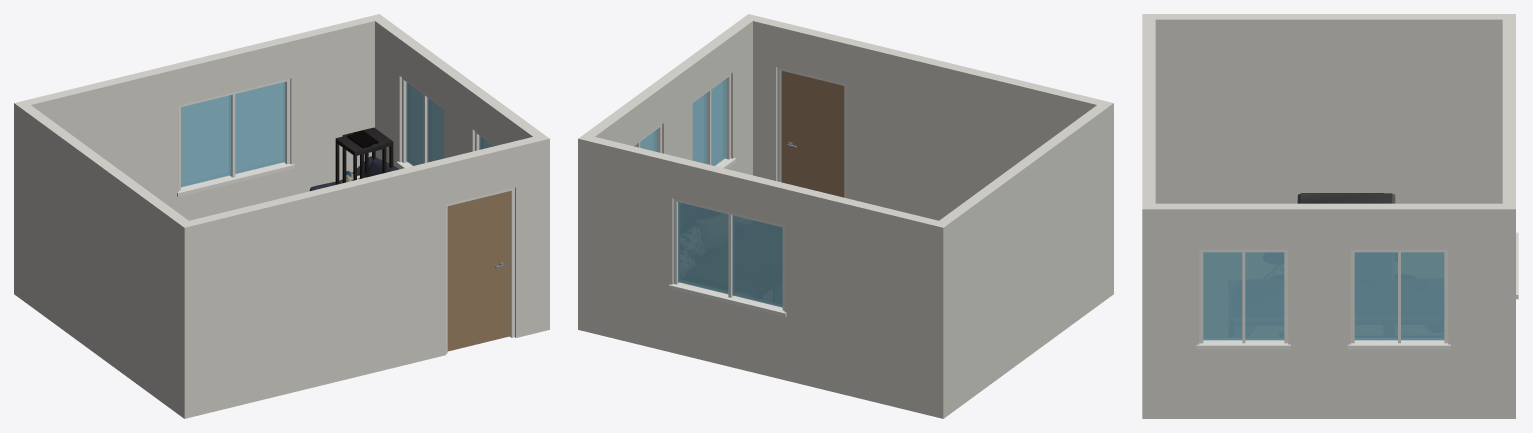
File: atiss.glb
3 views of the same model, side by side, from view 1: azimuth 30°, elevation 25°; view 2: azimuth 150°, elevation 25°; view 3: azimuth 270°, elevation 25° (orthographic). The views are drawn at different scales.
Parts seen in each view (by area): view 1: wall|scenesmith_107__R00|0, wall|scenesmith_107__R00|2, wall|scenesmith_107__R00|1, wall|scenesmith_107__R00|3, wall|scenesmith_107__R00|0 Door 0 | wood leaf, wall|scenesmith_107__R00|1 Window 0 | glazing, wall|scenesmith_107__R00|3 Window 0 | glazing, wall|scenesmith_107__R00|1 Window 0 | jamb, raw_model.001, wall|scenesmith_107__R00|0 Door 0 | jamb, wall|scenesmith_107__R00|3 Window 0 | jamb, solid_001; view 2: wall|scenesmith_107__R00|1, wall|scenesmith_107__R00|0, wall|scenesmith_107__R00|2, wall|scenesmith_107__R00|3, wall|scenesmith_107__R00|1 Window 0 | glazing, wall|scenesmith_107__R00|0 Door 0 | wood leaf, wall|scenesmith_107__R00|3 Window 0 | glazing, wall|scenesmith_107__R00|1 Window 0 | jamb, wall|scenesmith_107__R00|3 Window 0 | jamb, wall|scenesmith_107__R00|0 Door 0 | jamb; view 3: wall|scenesmith_107__R00|2, wall|scenesmith_107__R00|3, wall|scenesmith_107__R00|3 Window 0 | glazing, wall|scenesmith_107__R00|0, wall|scenesmith_107__R00|1, wall|scenesmith_107__R00|3 Window 0 | jamb, raw_model.
Boxes of the visible parts, <box> form: wall|scenesmith_107__R00|0: <box>179,137,549,418</box>; wall|scenesmith_107__R00|2: <box>14,100,188,418</box>; wall|scenesmith_107__R00|1: <box>14,16,374,298</box>; wall|scenesmith_107__R00|3: <box>369,14,549,169</box>; wall|scenesmith_107__R00|0 Door 0 | wood leaf: <box>447,191,510,351</box>; wall|scenesmith_107__R00|1 Window 0 | glazing: <box>181,82,285,187</box>; wall|scenesmith_107__R00|3 Window 0 | glazing: <box>406,82,493,165</box>; wall|scenesmith_107__R00|1 Window 0 | jamb: <box>177,78,294,196</box>; raw_model.001: <box>335,127,393,184</box>; wall|scenesmith_107__R00|0 Door 0 | jamb: <box>446,187,514,353</box>; wall|scenesmith_107__R00|3 Window 0 | jamb: <box>396,78,494,168</box>; solid_001: <box>309,156,398,190</box>; wall|scenesmith_107__R00|1: <box>578,137,949,418</box>; wall|scenesmith_107__R00|0: <box>753,16,1113,220</box>; wall|scenesmith_107__R00|2: <box>933,103,1113,418</box>; wall|scenesmith_107__R00|3: <box>578,14,758,332</box>; wall|scenesmith_107__R00|1 Window 0 | glazing: <box>678,202,782,307</box>; wall|scenesmith_107__R00|0 Door 0 | wood leaf: <box>781,70,844,197</box>; wall|scenesmith_107__R00|3 Window 0 | glazing: <box>634,78,726,165</box>; wall|scenesmith_107__R00|1 Window 0 | jamb: <box>669,199,786,317</box>; wall|scenesmith_107__R00|3 Window 0 | jamb: <box>633,74,736,168</box>; wall|scenesmith_107__R00|0 Door 0 | jamb: <box>777,67,846,197</box>; wall|scenesmith_107__R00|2: <box>1155,14,1514,203</box>; wall|scenesmith_107__R00|3: <box>1142,203,1515,418</box>; wall|scenesmith_107__R00|3 Window 0 | glazing: <box>1203,252,1444,340</box>; wall|scenesmith_107__R00|0: <box>1142,14,1155,418</box>; wall|scenesmith_107__R00|1: <box>1502,14,1515,418</box>; wall|scenesmith_107__R00|3 Window 0 | jamb: <box>1196,249,1450,349</box>; raw_model: <box>1297,193,1395,203</box>.
Bounding box in the file's own units: 5.23 × 2.61 × 4.23.
10 materials, 4 textured.
